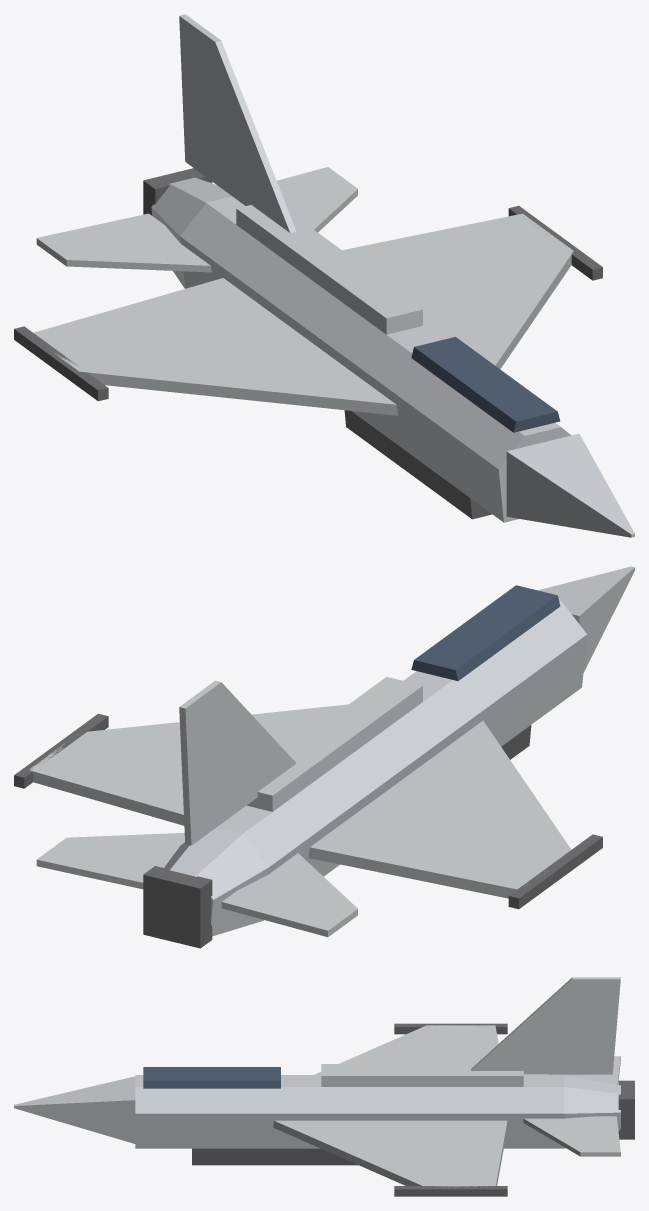
The model's file is jet.glb.
3 renders of one model, top to bottom at view 1: azimuth 30°, elevation 25°; view 2: azimuth 150°, elevation 25°; view 3: azimuth 270°, elevation 25°, orthographic. The views are drawn at different scales.
Visible parts, largest first — view 1: jet; view 2: jet; view 3: jet.
Part boxes in pixels (left/top/right/bottom): jet: left=14, top=14, right=634, bottom=537; jet: left=14, top=566, right=634, bottom=948; jet: left=14, top=977, right=634, bottom=1196.
Bounding box in the file's own units: 9.7 × 4.85 × 15.35.
